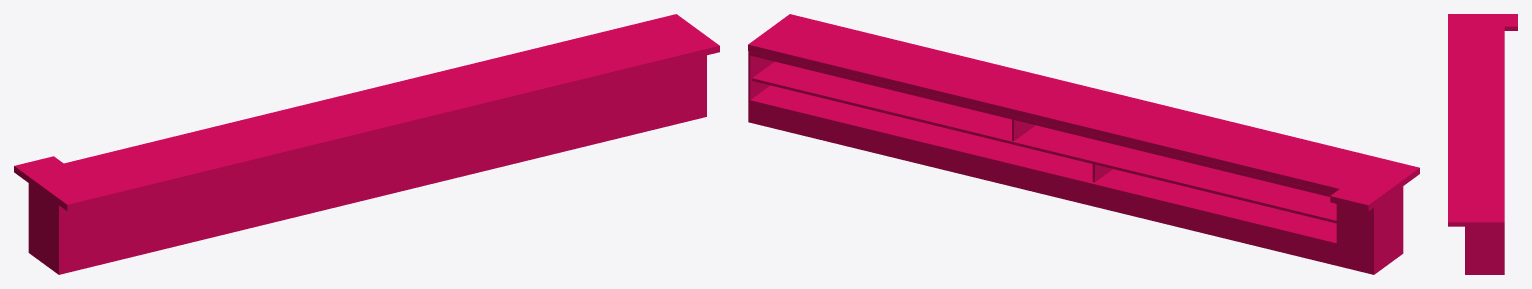
Rendered from Shop_Counter_03_Lod0.fbx.
3 renders of one model, left to right at view 1: azimuth 30°, elevation 25°; view 2: azimuth 150°, elevation 25°; view 3: azimuth 270°, elevation 25°, orthographic. The views are drawn at different scales.
Parts seen in each view (by area): view 1: Shop_Counter_03_Lod0; view 2: Shop_Counter_03_Lod0; view 3: Shop_Counter_03_Lod0.
Boxes of the visible parts, left/top/right/bottom form: Shop_Counter_03_Lod0: left=14, top=14, right=719, bottom=274; Shop_Counter_03_Lod0: left=748, top=14, right=1419, bottom=274; Shop_Counter_03_Lod0: left=1448, top=14, right=1517, bottom=274.
Bounding box in the file's own units: 924 × 109 × 131.
